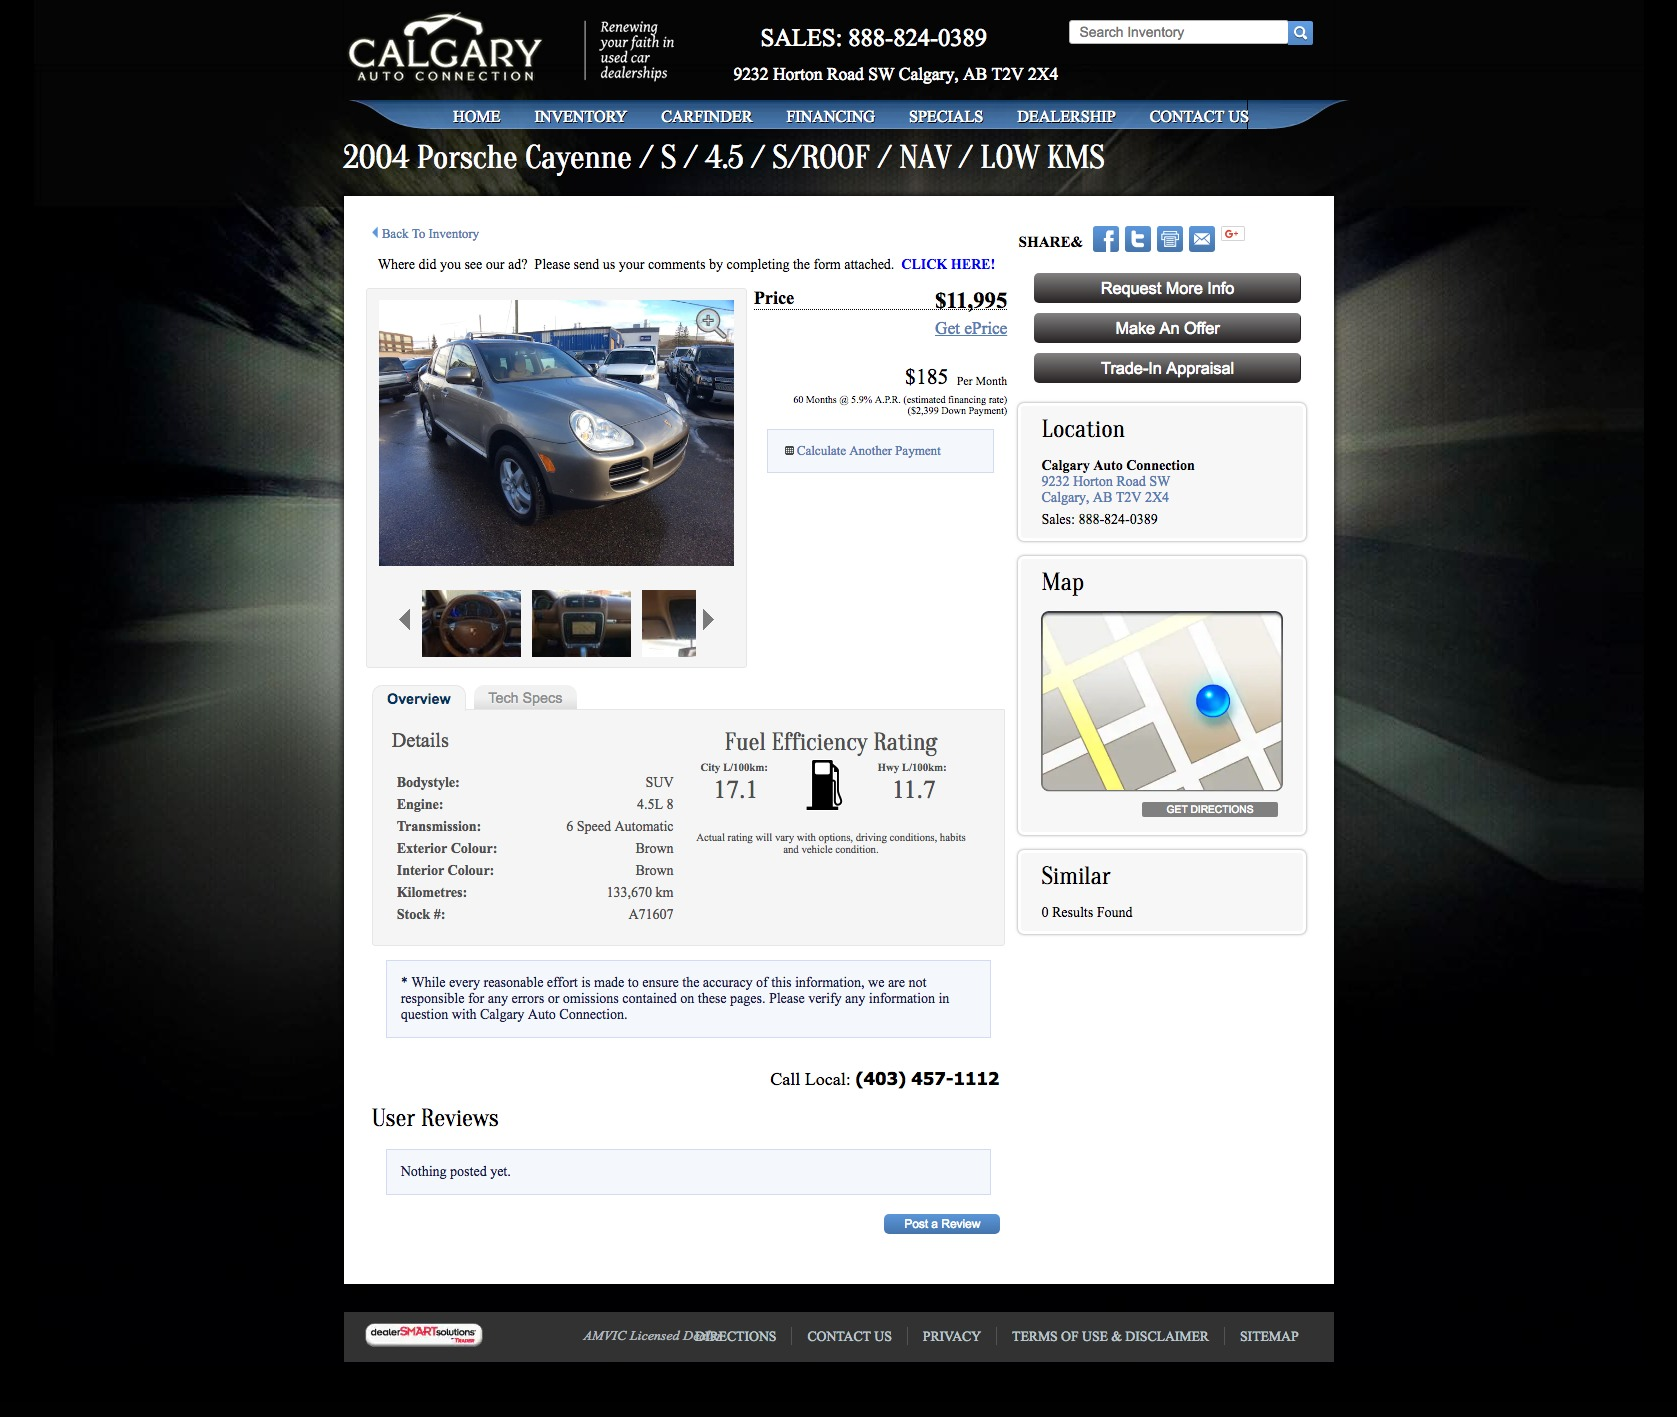car: (701, 609, 717, 633)
